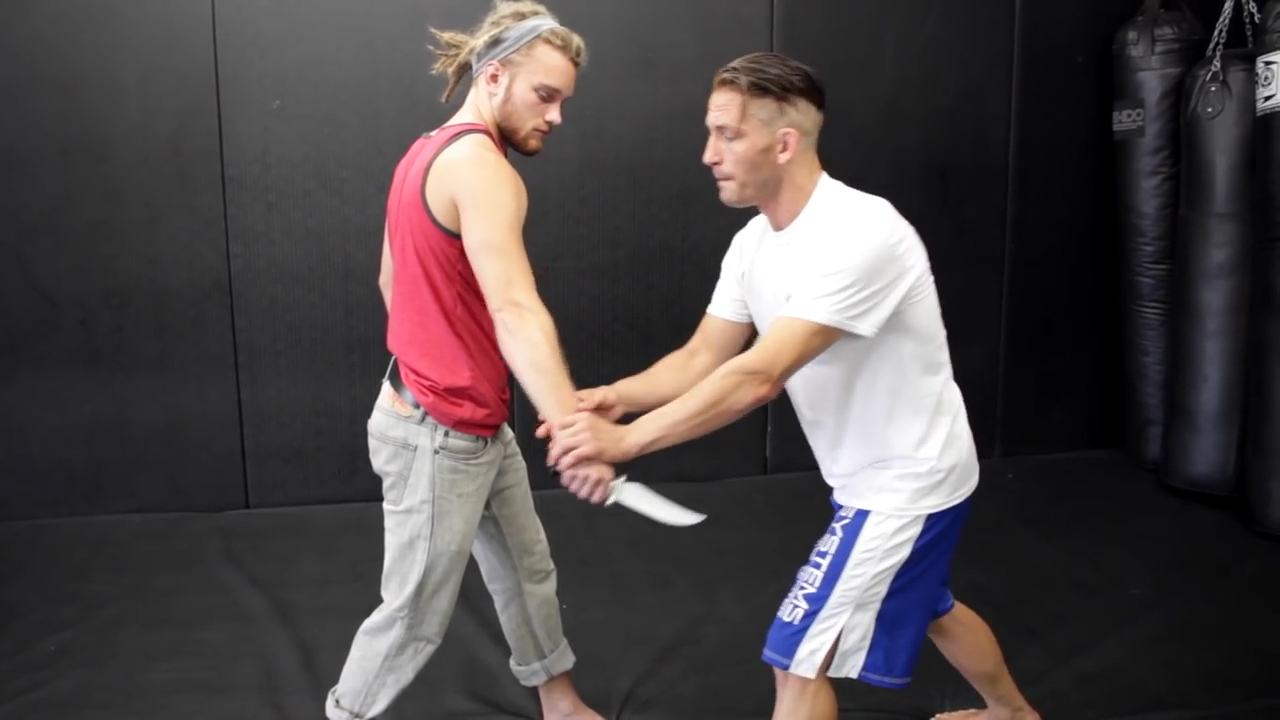knife: (546, 461, 717, 539)
